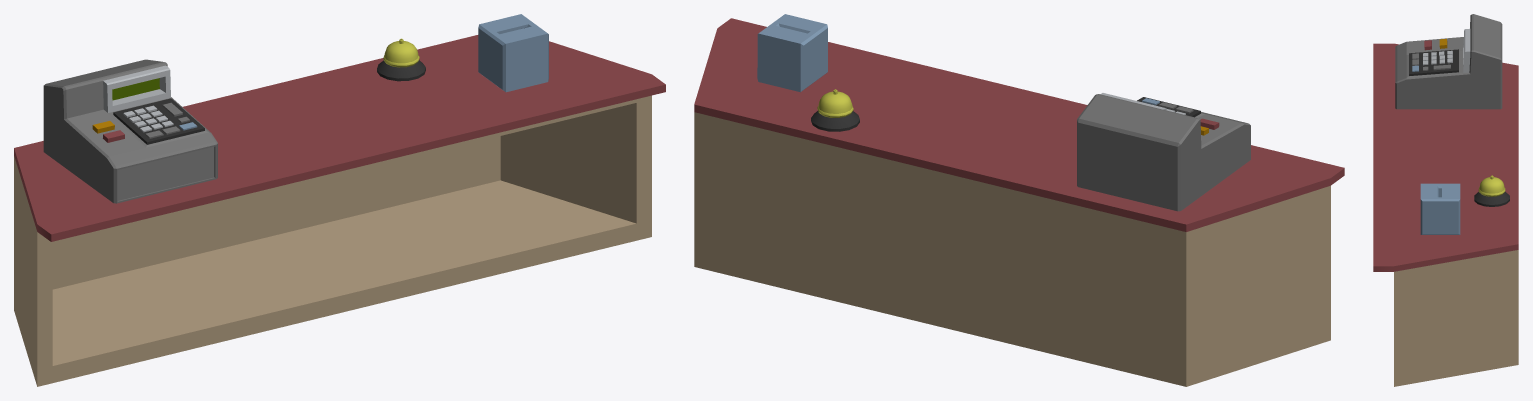
The model's file is Mostrador_Con_Objetos.fbx.
The picture shows the model from 3 angles, left to right: view 1: azimuth 30°, elevation 25°; view 2: azimuth 150°, elevation 25°; view 3: azimuth 270°, elevation 25°; orthographic projection. The views are drawn at different scales.
Visible parts, largest first — view 1: Mostrador, Caja_Registradora, Propinas, Campana_Campana; view 2: Mostrador, Caja_Registradora, Propinas, Campana_Campana; view 3: Mostrador, Caja_Registradora, Propinas, Campana_Campana.
Boxes of the visible parts, x1,y1,x2,y2 form: Mostrador: (14, 35, 665, 386); Caja_Registradora: (43, 59, 217, 203); Propinas: (478, 14, 548, 92); Campana_Campana: (377, 38, 425, 81); Mostrador: (694, 18, 1344, 386); Caja_Registradora: (1077, 93, 1250, 211); Propinas: (757, 14, 827, 92); Campana_Campana: (811, 89, 859, 131); Mostrador: (1373, 43, 1518, 386); Caja_Registradora: (1395, 14, 1502, 109); Propinas: (1420, 183, 1460, 234); Campana_Campana: (1474, 175, 1509, 206).
Bounding box in the file's own units: 35.53 × 13.35 × 9.8.
